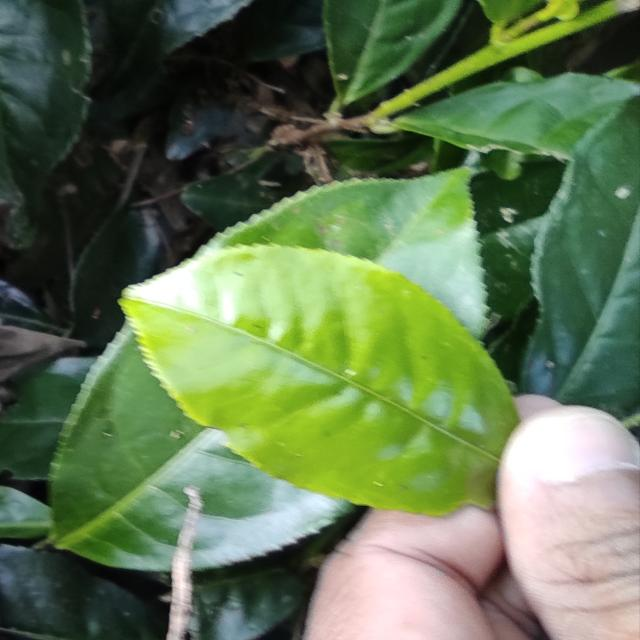Category C 4-7 days: (103, 212, 530, 538)
